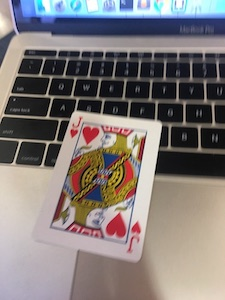JackOfHearts: (30, 109, 167, 265)
